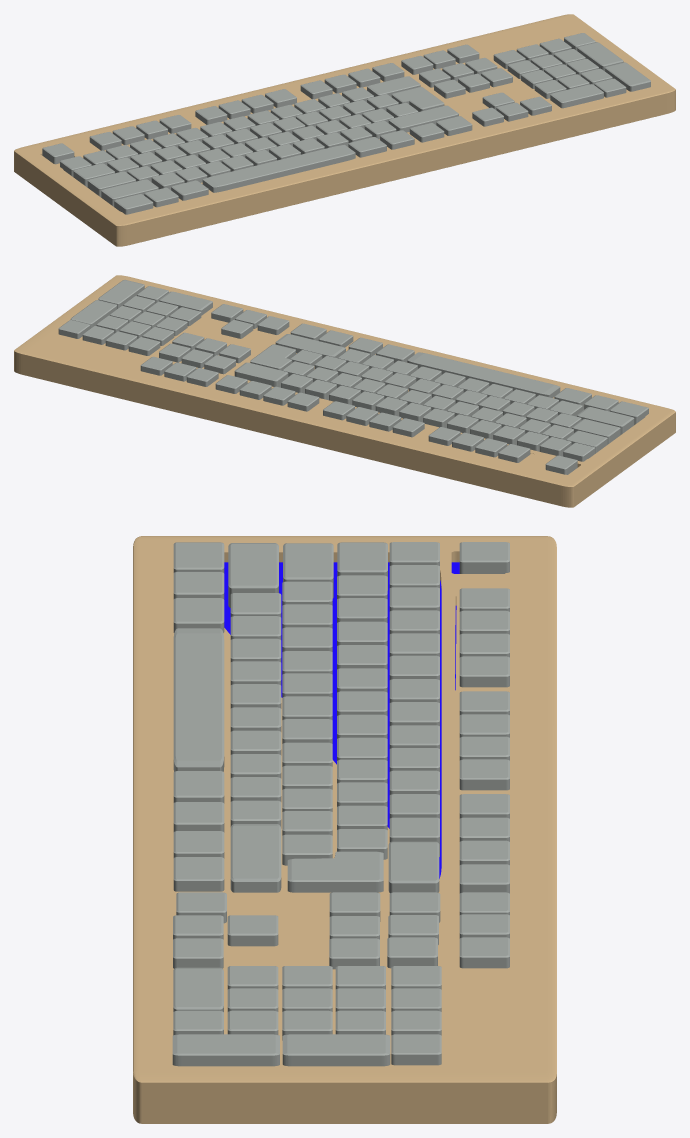
File: klawa.fbx
The picture shows the model from 3 angles, top to bottom: view 1: azimuth 30°, elevation 25°; view 2: azimuth 150°, elevation 25°; view 3: azimuth 270°, elevation 25°; orthographic projection. The views are drawn at different scales.
Visible parts, largest first — view 1: Cube.053, Cube; view 2: Cube.053, Cube; view 3: Cube.053, Cube, Cube.106.
Boxes of the visible parts, <box> form: Cube.053: <box>42,33,650,214</box>; Cube: <box>14,14,675,246</box>; Cube.053: <box>58,279,648,474</box>; Cube: <box>14,275,675,507</box>; Cube.053: <box>172,542,509,1066</box>; Cube: <box>133,536,556,1123</box>; Cube.106: <box>224,562,459,878</box>.
Size of the model in its own units: 508 by 23.67 by 167.
